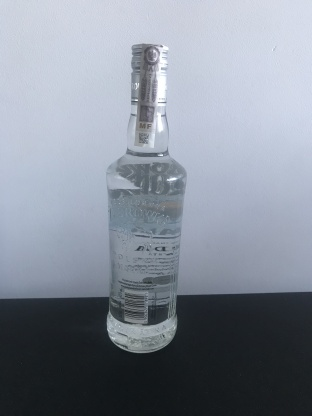nakretka: (129, 39, 170, 109)
